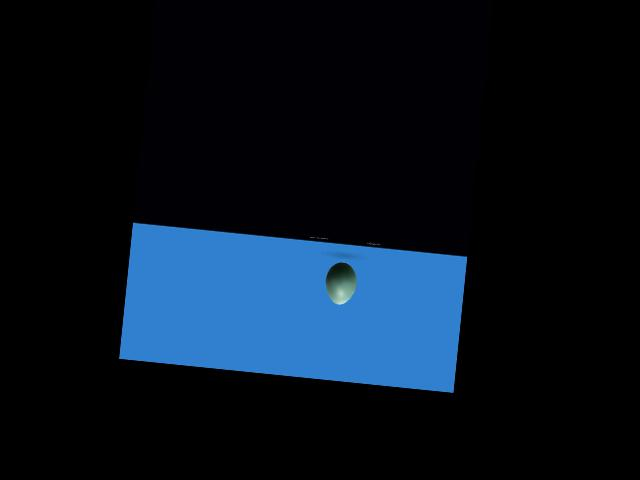egg: (322, 261, 358, 306)
